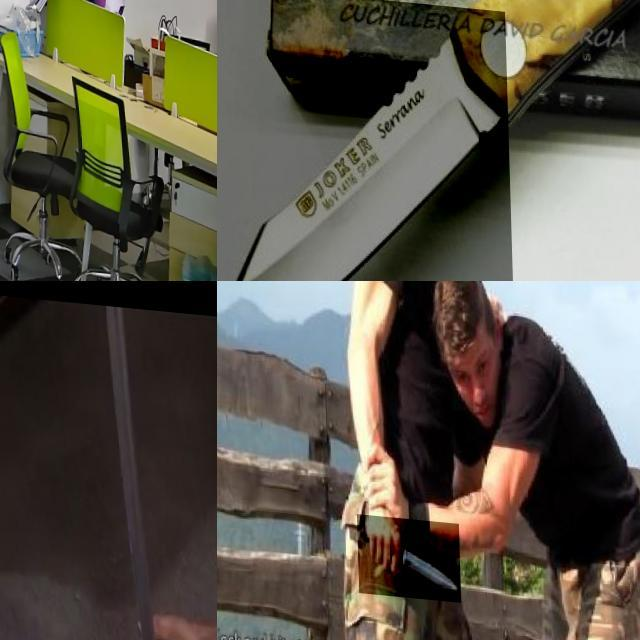-: (217, 0, 511, 281), (354, 509, 458, 596)
gun-knife-thesis - v11 Yolov5 augmented: (0, 0, 14, 39)
